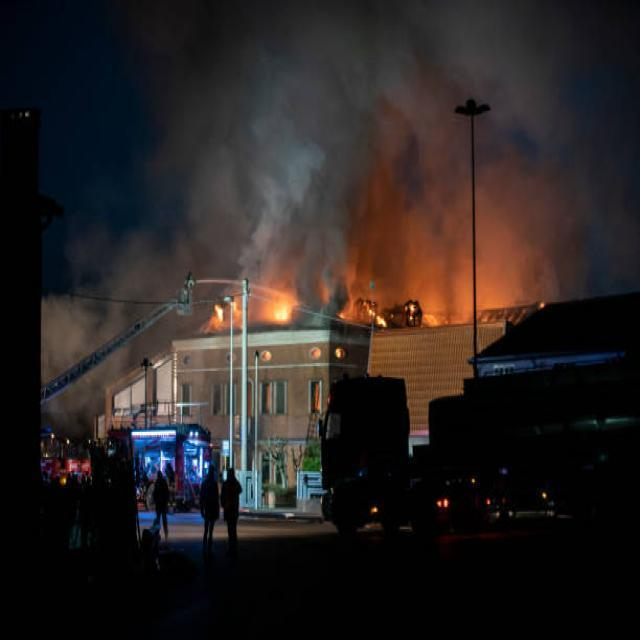Smoke: (186, 29, 426, 274), (496, 18, 622, 290), (346, 206, 530, 333), (208, 240, 340, 320)
